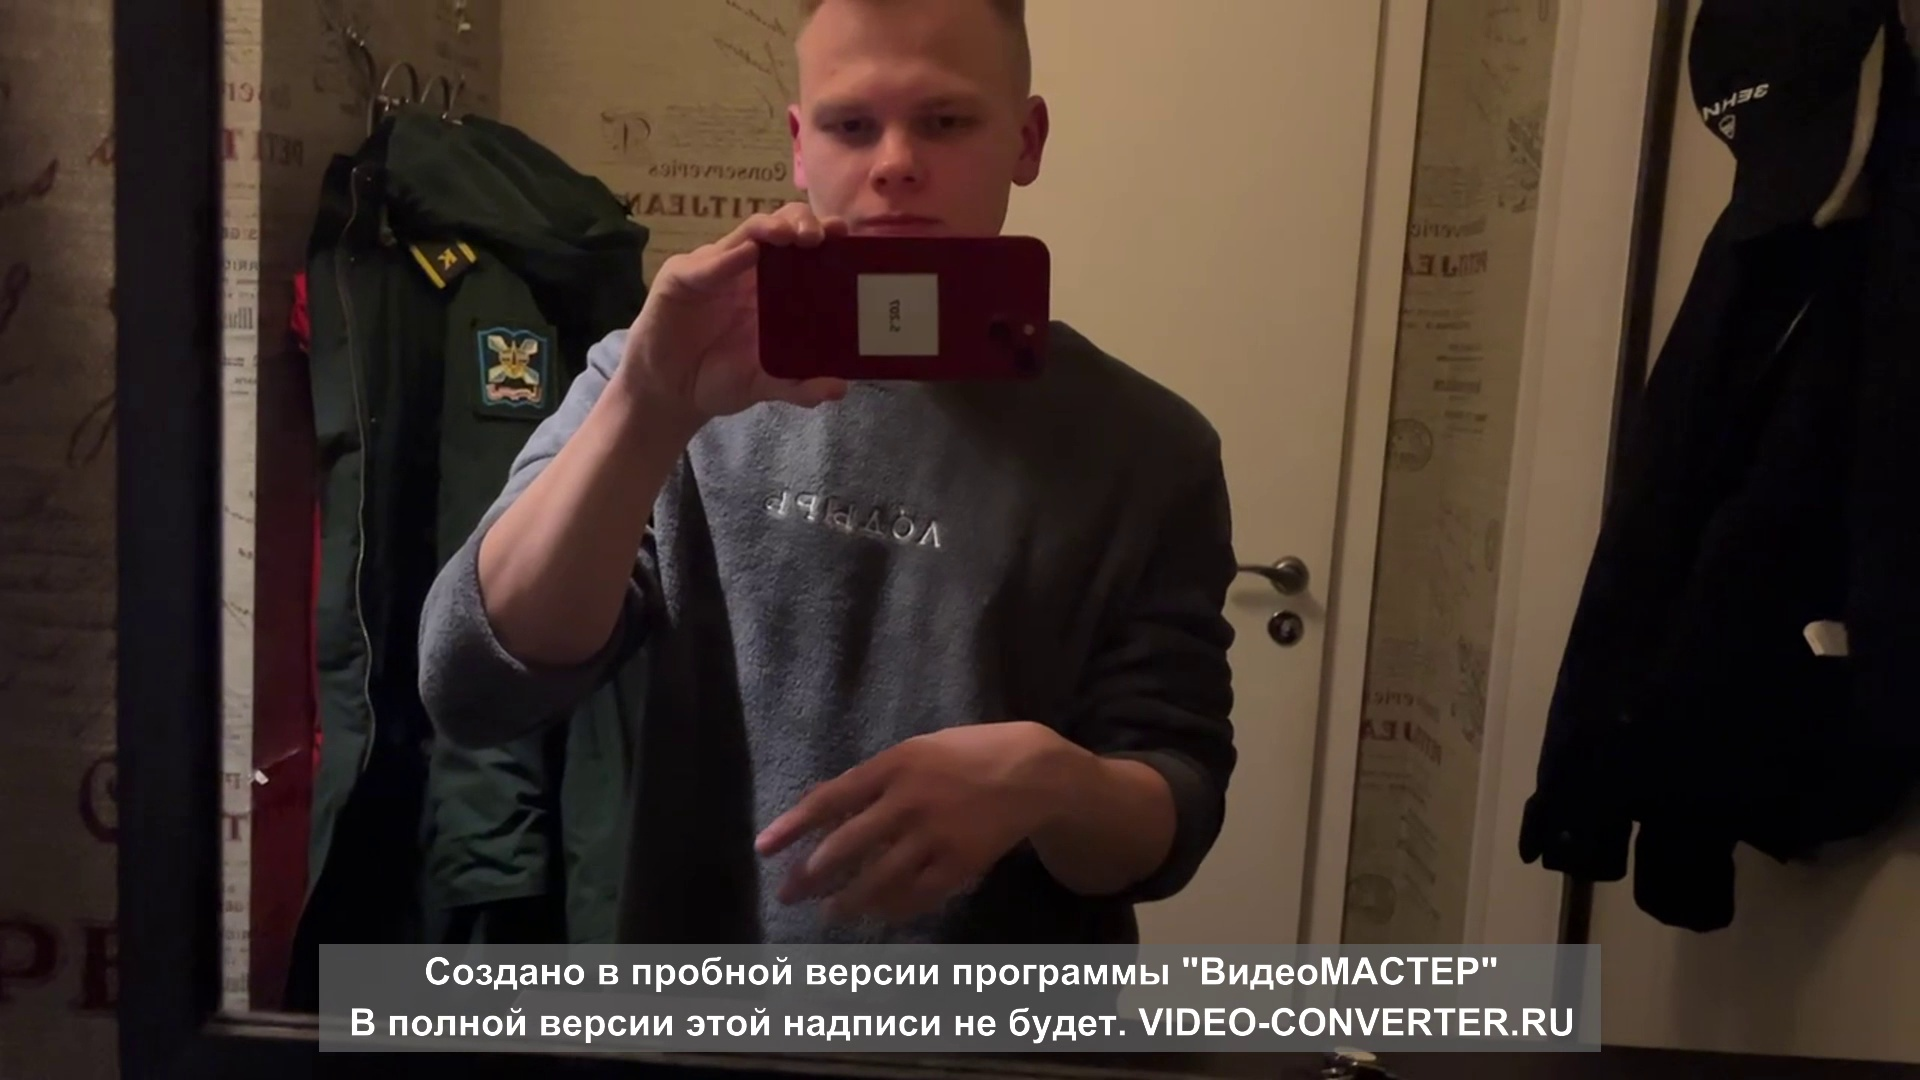Кисть: (756, 720, 1064, 931)
